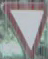Give way: (1, 4, 46, 57)
